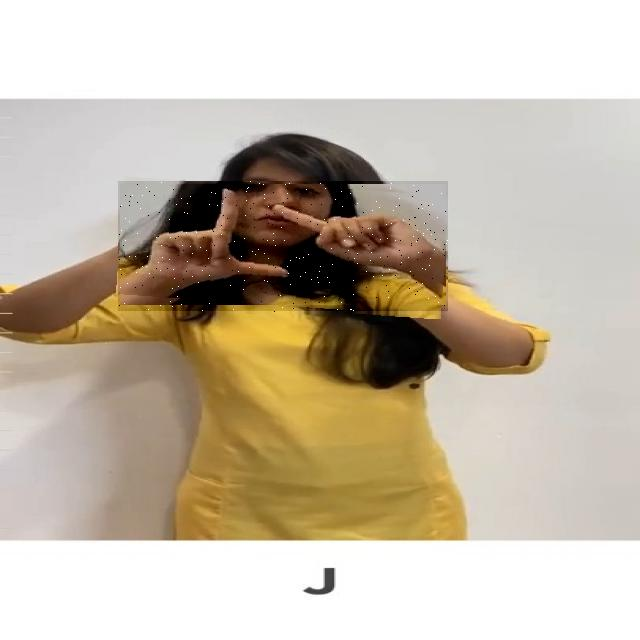J: (118, 182, 448, 314)
